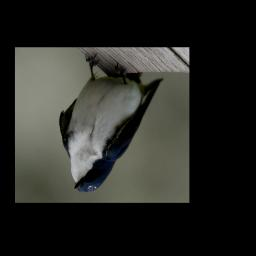Swallow: (58, 52, 164, 193)
